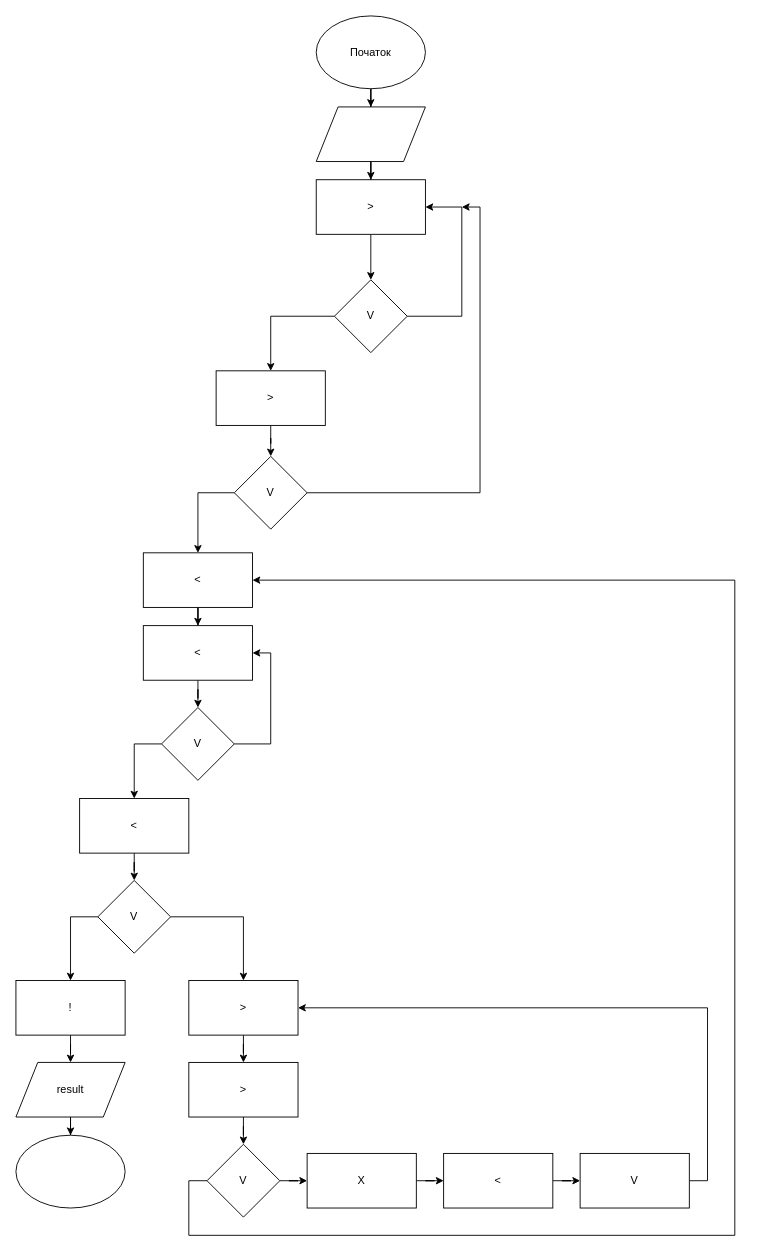
Image size: 758x1259. Some labels were removed from this diagram. Here are the shapes that lost their labels. From the top down, the centre of each, then its label:
At point 370,134: "n1, n2, n3, n4, n5, n6".
At point 70,1171: "Кінець".
